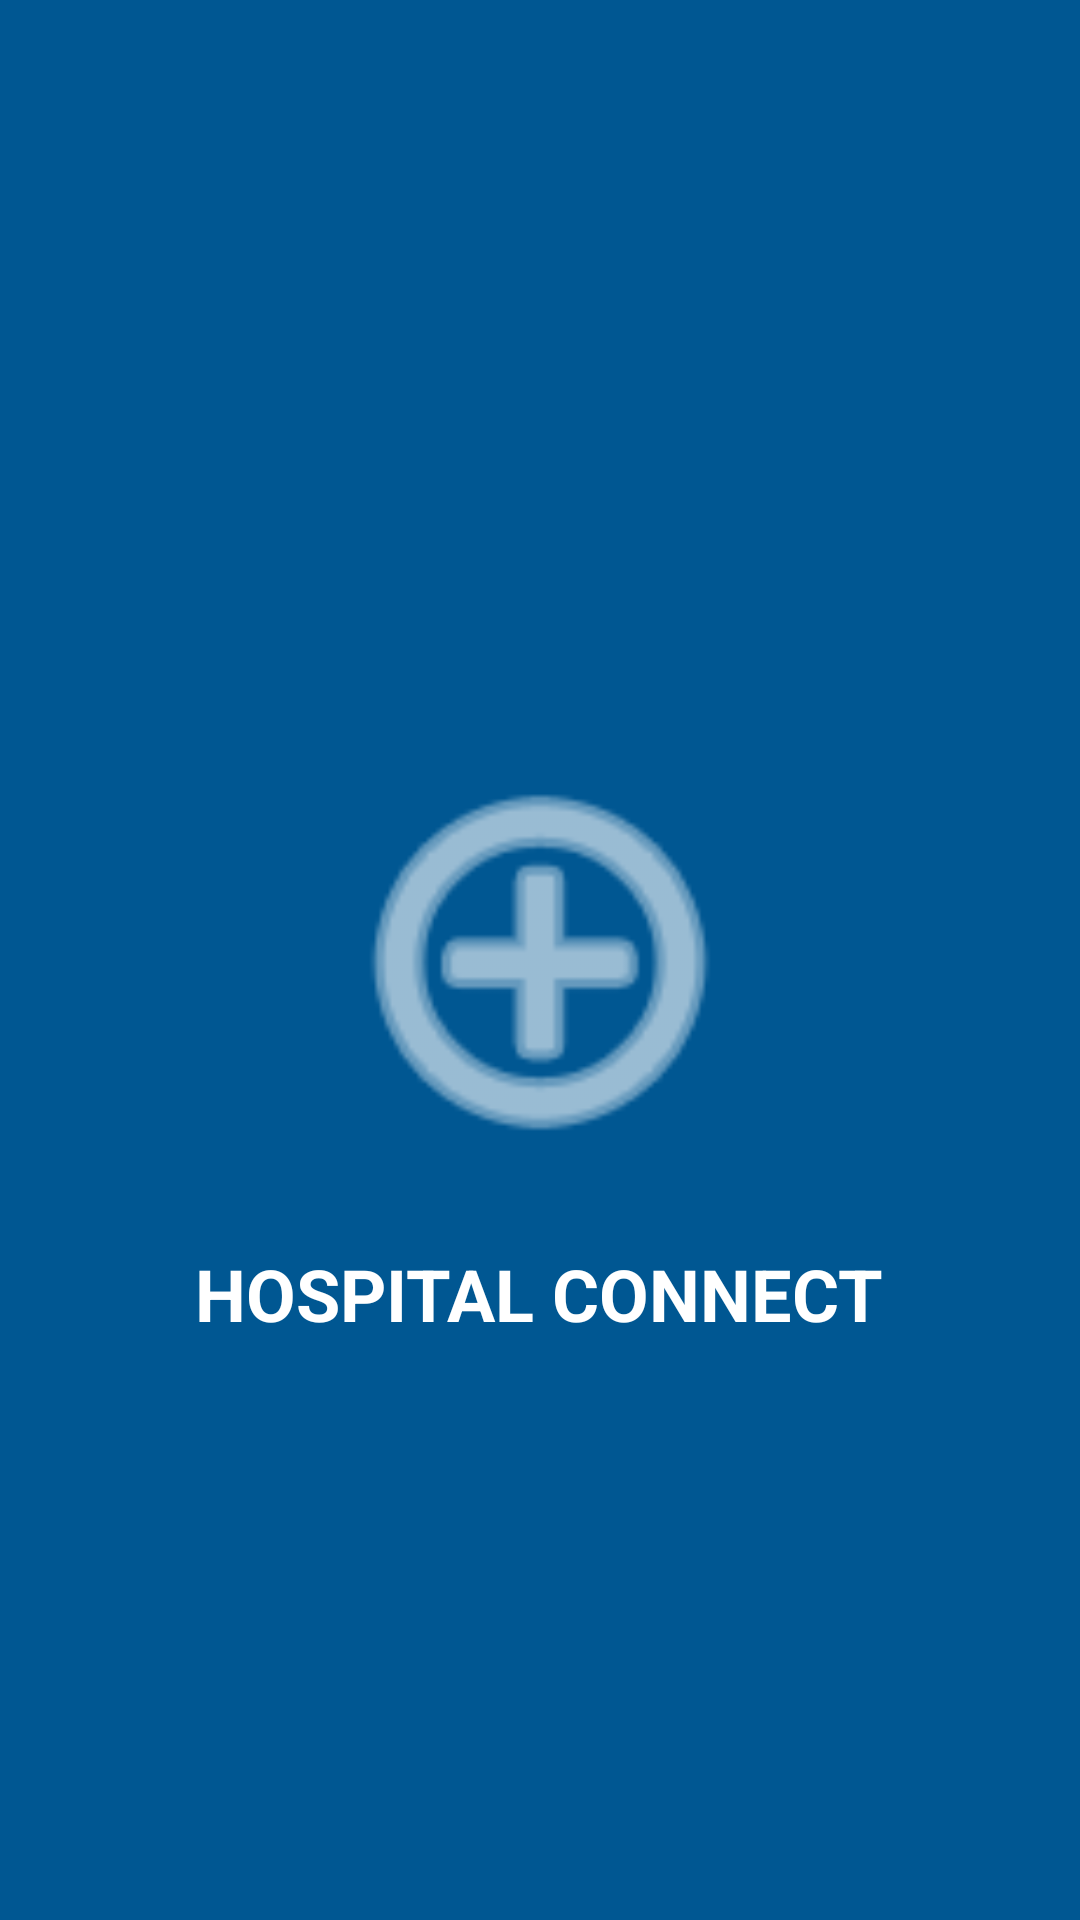

Point at icon controls on the screen. Image size 1080*1920, points as (x,y).
add: (540,962)
